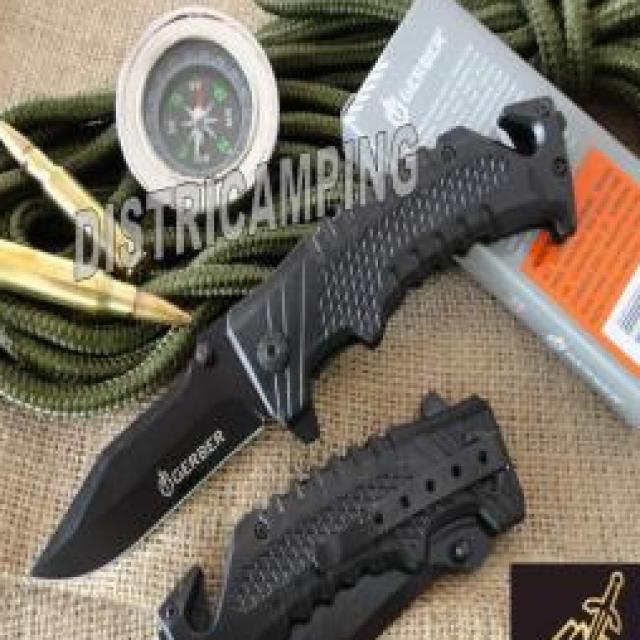knife: (18, 322, 274, 594)
